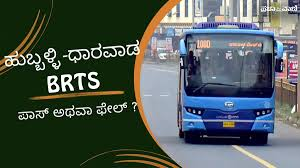Chigari: (177, 23, 285, 145)
